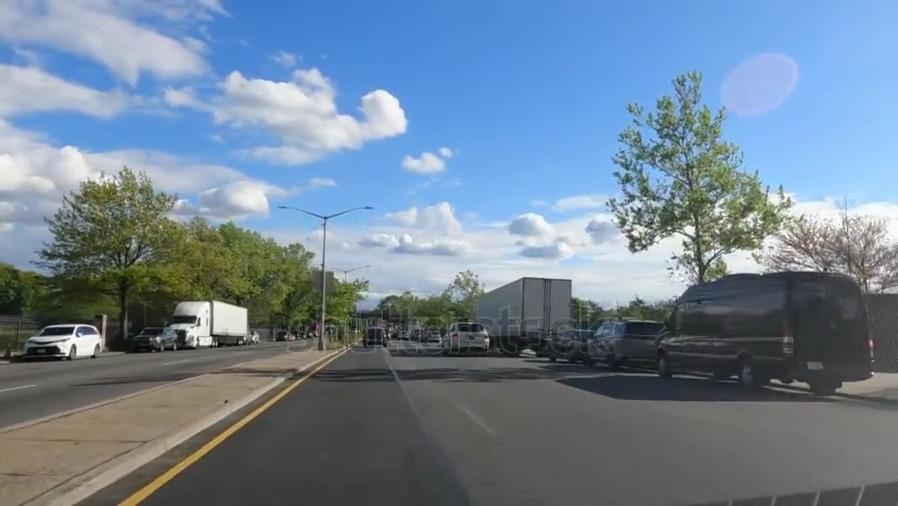car: (25, 321, 104, 367), (590, 317, 658, 362), (445, 322, 491, 352), (135, 325, 179, 353), (551, 329, 591, 358), (363, 325, 387, 349), (249, 331, 260, 343)
truck: (469, 279, 570, 346), (171, 298, 249, 351)
van: (657, 270, 877, 393)
